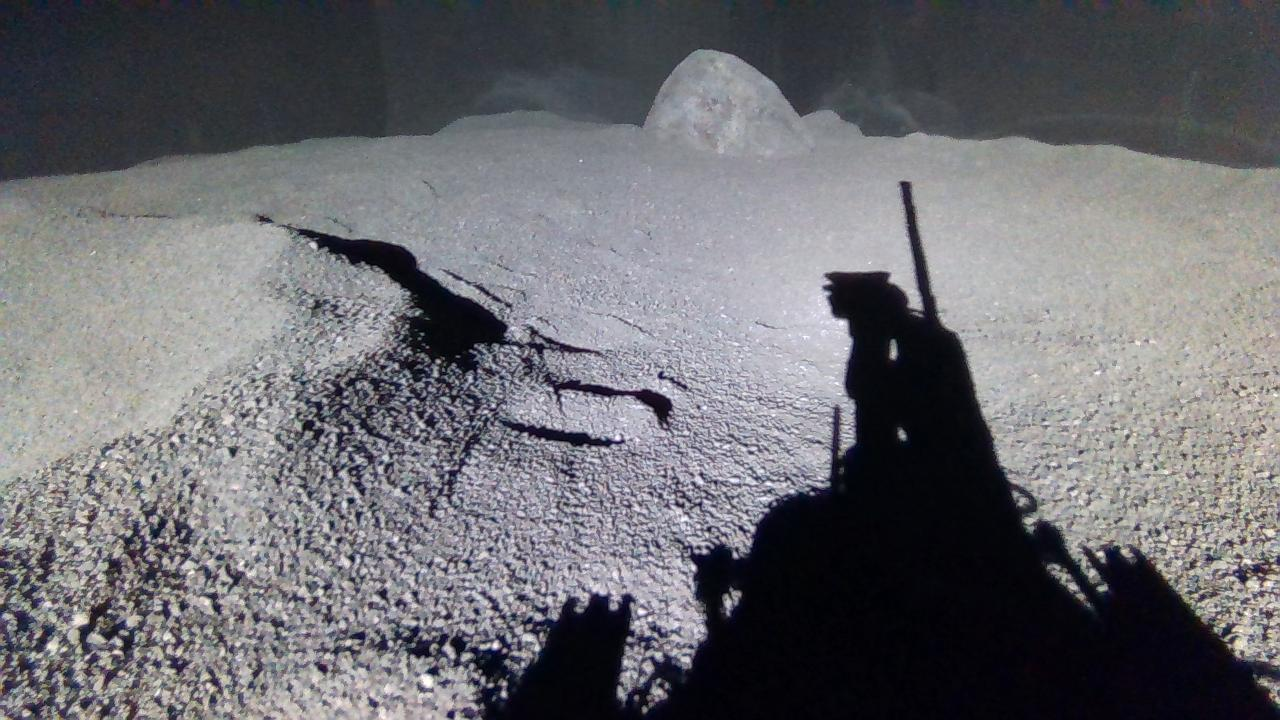rock: (645, 48, 815, 155)
